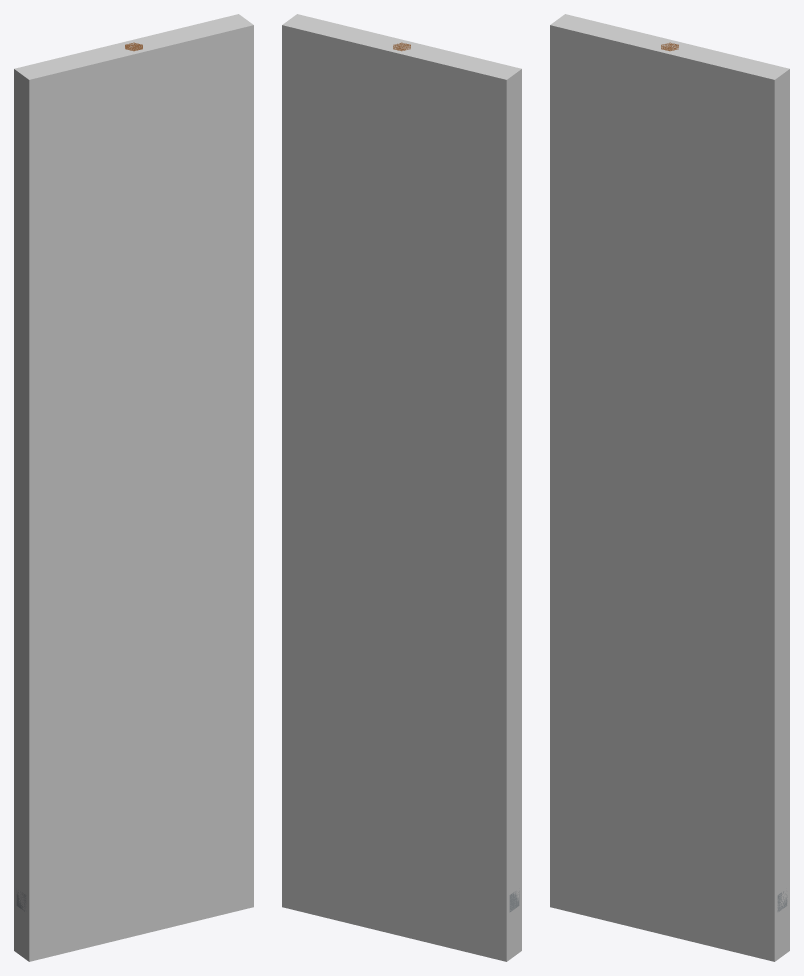
The model's file is FMS_Tool_Rake.fbx.
The picture shows the model from 3 angles, left to right: view 1: azimuth 30°, elevation 25°; view 2: azimuth 150°, elevation 25°; view 3: azimuth 330°, elevation 25°; orthographic projection.
Parts seen in each view (by area): view 1: FMS_Tool_Rake_Col; view 2: FMS_Tool_Rake_Col; view 3: FMS_Tool_Rake_Col.
Boxes of the visible parts, left/top/right/bottom form: FMS_Tool_Rake_Col: left=14, top=14, right=253, bottom=961; FMS_Tool_Rake_Col: left=282, top=14, right=521, bottom=961; FMS_Tool_Rake_Col: left=550, top=14, right=789, bottom=961.
Size of what is drawn, in the model's own units: 0.4 by 1.5 by 0.0468.
1 material, 1 textured.
